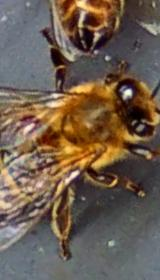varroa_mite: (12, 106, 41, 140)
